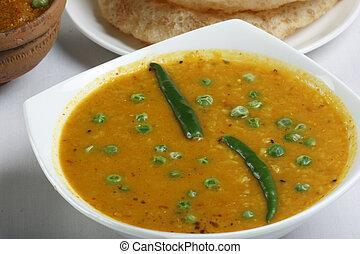dal: (63, 35, 339, 230)
